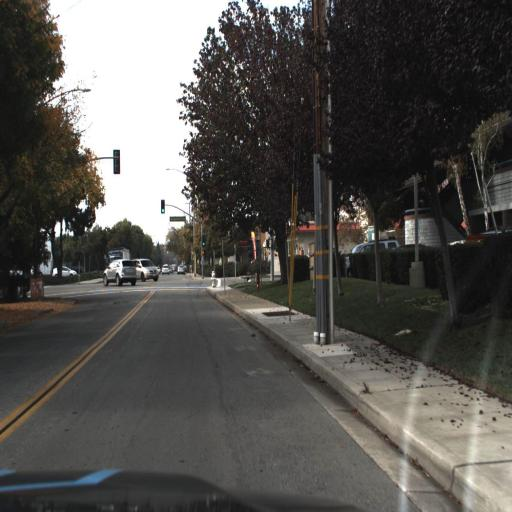car: (103, 255, 137, 285), (129, 257, 159, 285), (50, 261, 79, 282)
